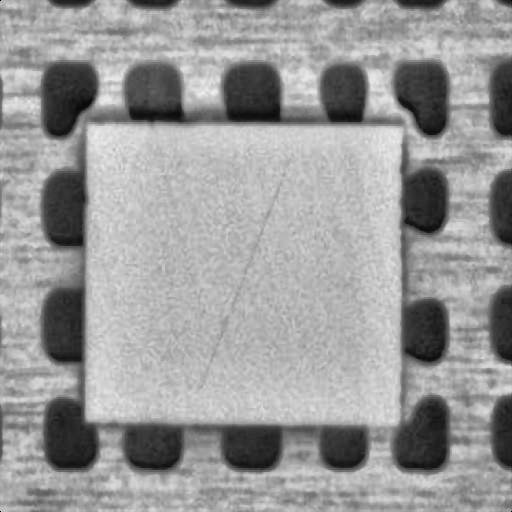DIE_CRACK: (264, 118, 383, 290)
